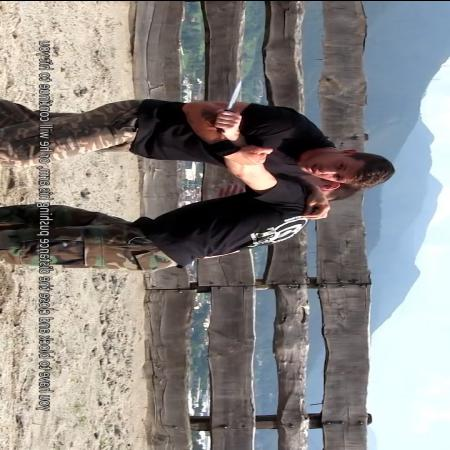long weapon: (213, 76, 251, 137)
